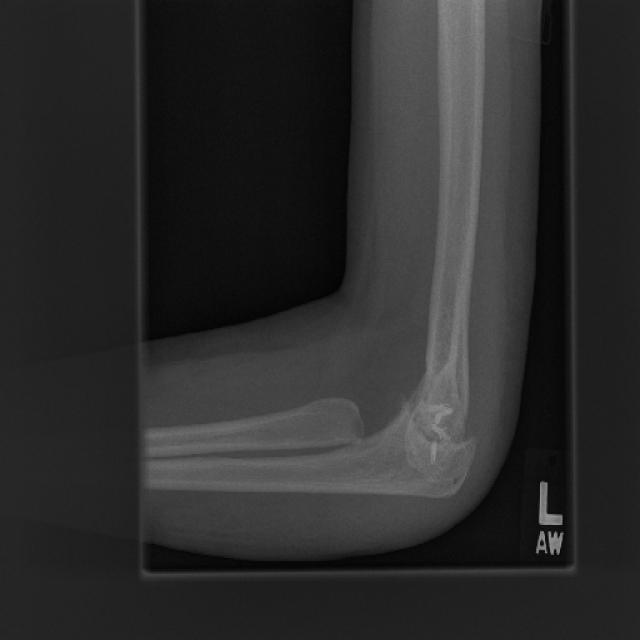elbow positive: (398, 378, 502, 511)
